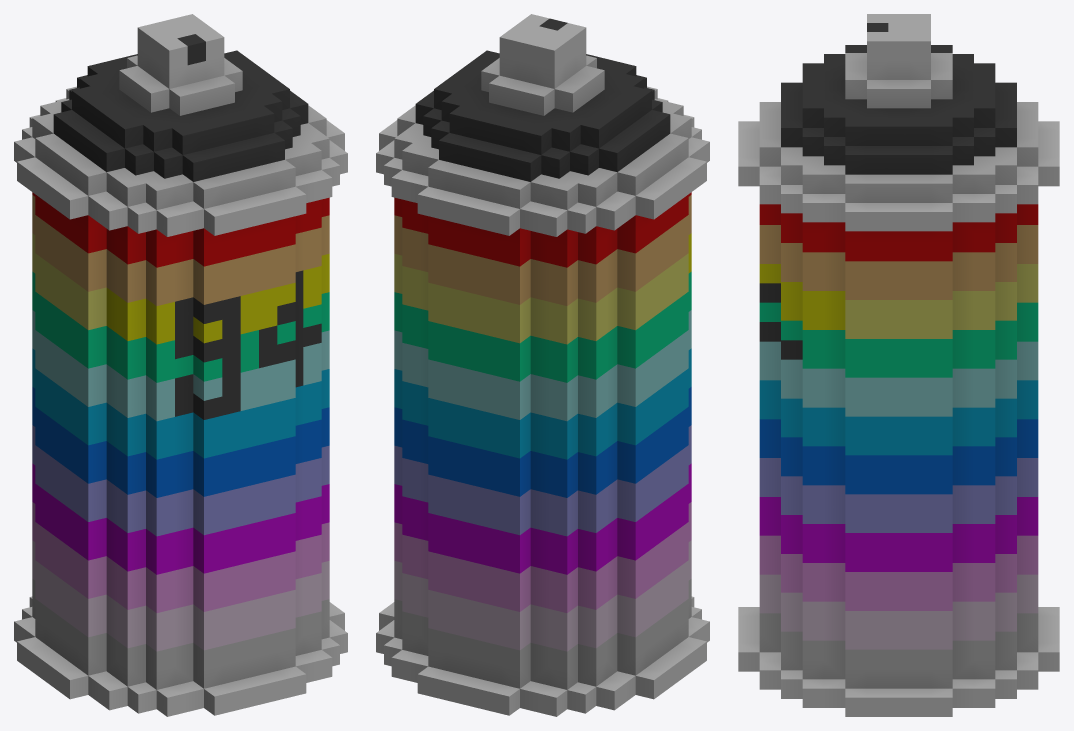
File: wearable.gltf
3 views of the same model, side by side, from view 1: azimuth 30°, elevation 25°; view 2: azimuth 150°, elevation 25°; view 3: azimuth 270°, elevation 25° (orthographic).
Parts seen in each view (by area): view 1: boop; view 2: boop; view 3: boop.
Boxes of the visible parts, <box> form: boop: <box>14,14,347,716</box>; boop: <box>376,14,709,716</box>; boop: <box>738,14,1059,716</box>.
Bounding box in the file's own units: 0.3 × 0.64 × 0.3.
